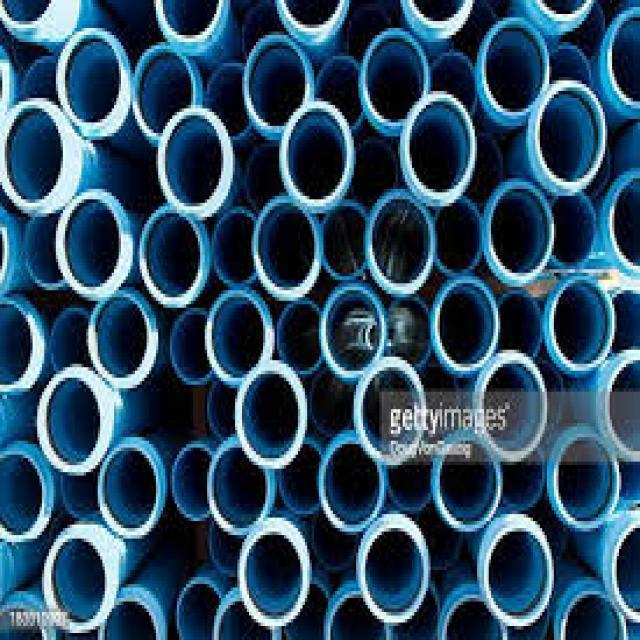pipe: (160, 113, 232, 220), (59, 35, 130, 141), (536, 83, 605, 189), (140, 204, 209, 307), (356, 363, 425, 464), (403, 96, 472, 196), (282, 107, 351, 205), (256, 195, 321, 298), (238, 368, 304, 469), (485, 185, 552, 283), (359, 522, 425, 619), (37, 376, 108, 466), (368, 195, 432, 294), (486, 524, 550, 622), (480, 22, 546, 117), (435, 432, 501, 527), (2, 103, 63, 205), (480, 358, 543, 455), (48, 532, 111, 628), (364, 29, 426, 125), (91, 292, 154, 386), (246, 36, 310, 128), (435, 282, 497, 375), (132, 46, 195, 137), (555, 439, 618, 529), (551, 280, 614, 369), (63, 198, 122, 292), (207, 289, 268, 379), (319, 445, 382, 531), (244, 533, 303, 621), (210, 447, 270, 533), (101, 449, 158, 537), (325, 289, 383, 375), (433, 200, 481, 276), (322, 203, 368, 279), (1, 453, 42, 538), (308, 366, 356, 438), (606, 355, 639, 459), (205, 65, 251, 138), (606, 7, 640, 105), (387, 298, 432, 372), (25, 208, 66, 289), (561, 590, 628, 639), (278, 300, 322, 374), (213, 209, 255, 286), (352, 139, 399, 207), (317, 59, 361, 131), (552, 197, 596, 268), (279, 443, 321, 516), (170, 310, 212, 383), (496, 292, 543, 357), (429, 52, 476, 116), (610, 173, 639, 274), (0, 301, 34, 387), (172, 443, 210, 519), (328, 592, 388, 639), (160, 1, 222, 45), (388, 448, 432, 509), (176, 581, 220, 640), (613, 520, 639, 619), (444, 596, 503, 638), (247, 145, 285, 209), (99, 597, 158, 638), (50, 311, 90, 369), (59, 467, 102, 515), (409, 1, 471, 33), (281, 0, 344, 31), (208, 378, 238, 440)
